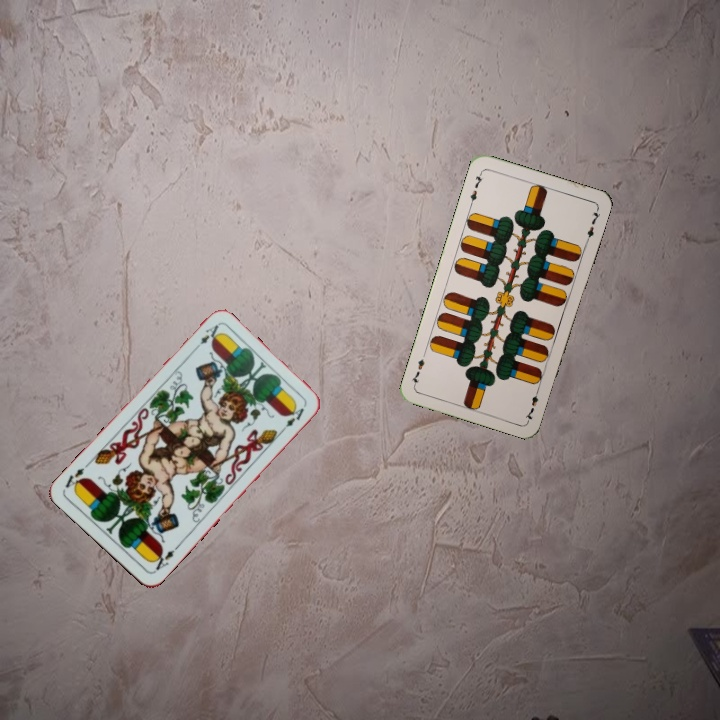E7: (521, 384, 542, 423), (466, 168, 485, 208)
EA: (148, 541, 181, 575), (189, 320, 222, 354)
